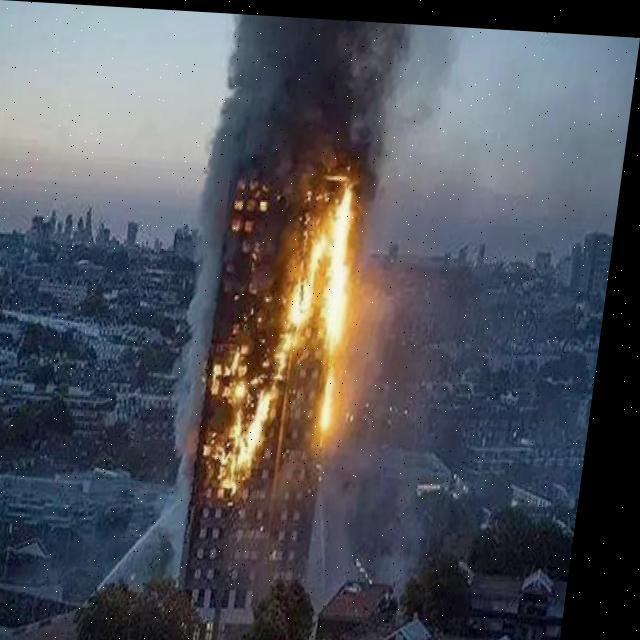Fire: (204, 153, 370, 496)
